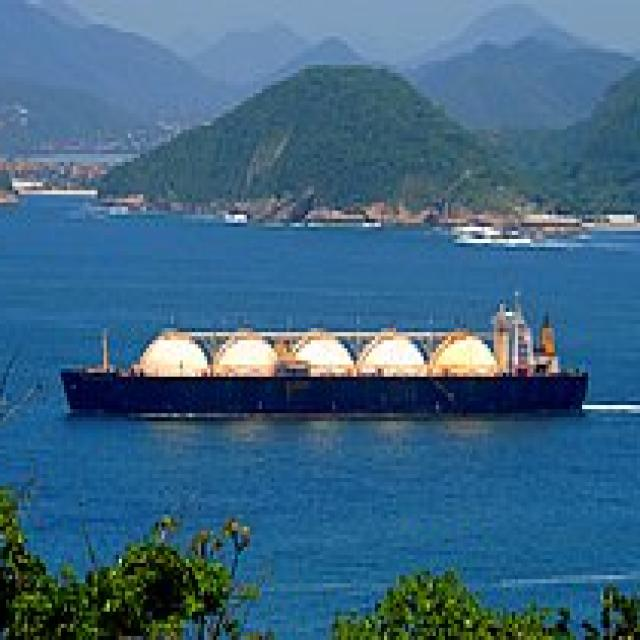Tanker: (61, 288, 594, 413)
